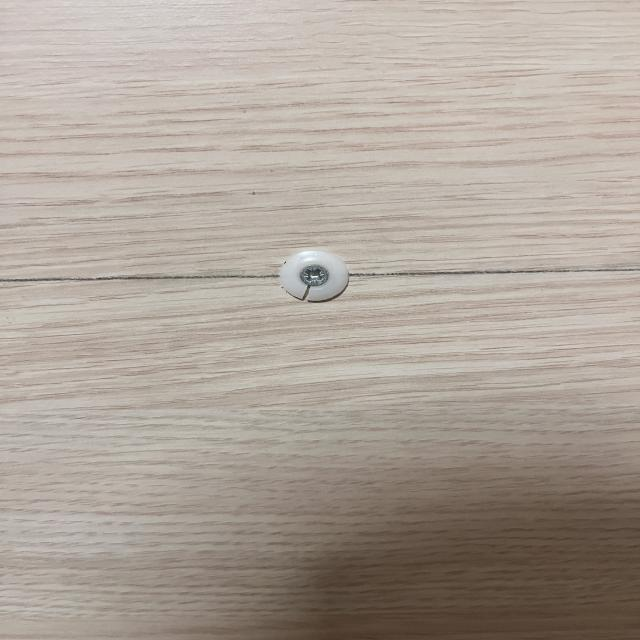pozidriv: (300, 264, 330, 286)
